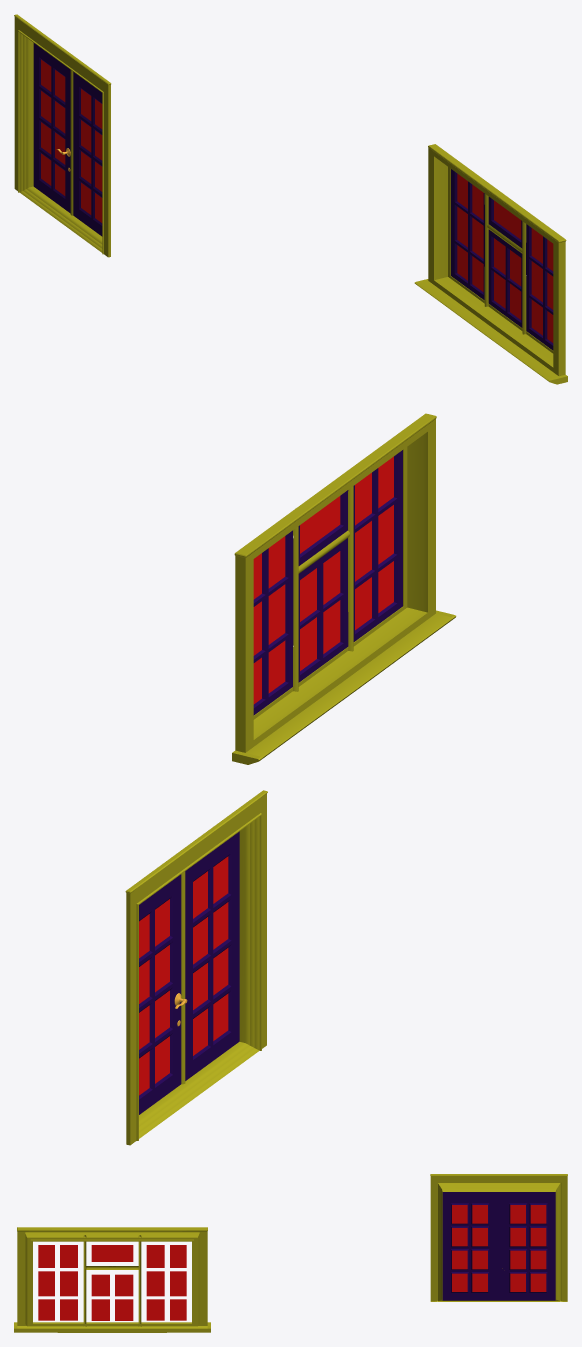
The model's file is HOUSE_DOORS_WINDOWS.FBX.
3 renders of one model, top to bottom at view 1: azimuth 30°, elevation 25°; view 2: azimuth 150°, elevation 25°; view 3: azimuth 270°, elevation 25°, orthographic. The views are drawn at different scales.
Visible parts, largest first — view 1: WINDOW, Door_Structure, Window_Glass, Door_Glass; view 2: WINDOW, Door_Structure, Window_Glass, Door_Glass; view 3: Door_Structure, WINDOW, Window_Glass, Door_Glass.
Part boxes in pixels (bbox=[...]): WINDOW: bbox=[414, 144, 567, 384]; Door_Structure: bbox=[14, 14, 111, 257]; Window_Glass: bbox=[457, 173, 553, 342]; Door_Glass: bbox=[41, 59, 102, 222]; WINDOW: bbox=[232, 413, 456, 764]; Door_Structure: bbox=[125, 790, 267, 1145]; Window_Glass: bbox=[253, 456, 393, 704]; Door_Glass: bbox=[139, 856, 228, 1095]; Door_Structure: bbox=[430, 1174, 567, 1301]; WINDOW: bbox=[14, 1227, 210, 1332]; Window_Glass: bbox=[38, 1245, 186, 1320]; Door_Glass: bbox=[452, 1205, 546, 1291].
Bounding box in the file's own units: 519 × 494 × 1856.
